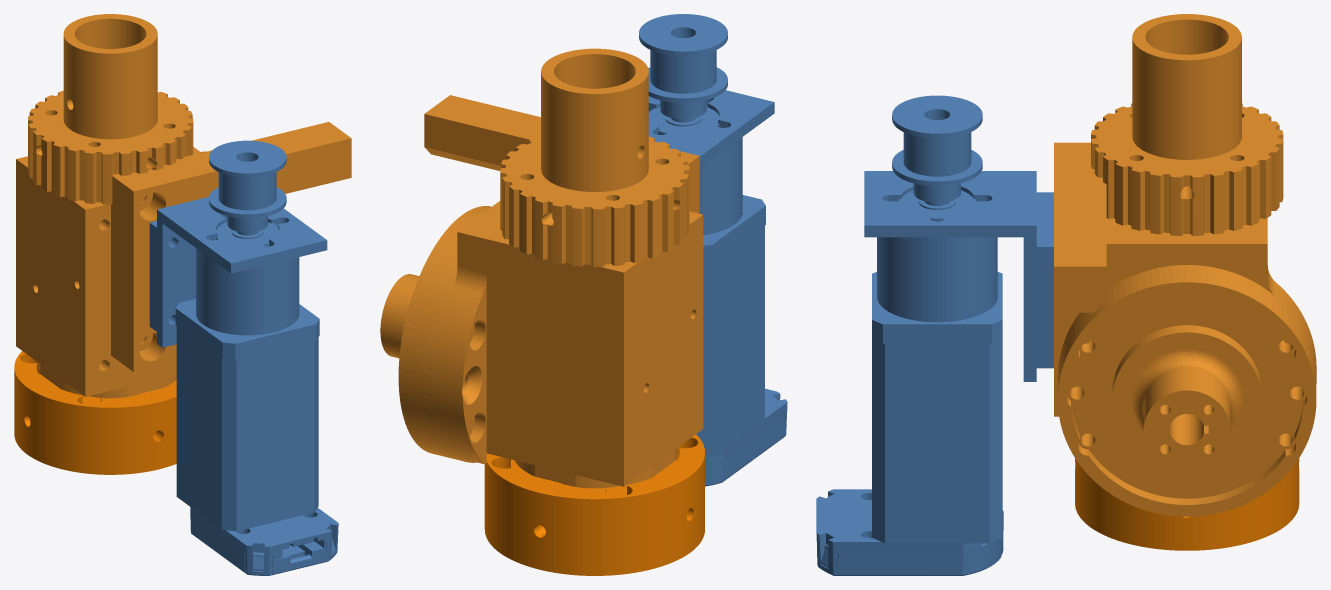
3 views of the same model, side by side, from view 1: azimuth 30°, elevation 25°; view 2: azimuth 150°, elevation 25°; view 3: azimuth 270°, elevation 25° (orthographic). The views are drawn at different scales.
Visible parts, largest first — view 1: Motor 11HS20-0674D-PG5 (×2), J4 Turret Housing, J4 motor mount - limit arm, J5 motor mount, J4 Main Shaft, J4 timing hub, J4 Motor Bracket, Encoder AMT-102V (×2), Pulley 10T, J4 motor spacer - 4mm; view 2: J4 Turret Housing, J5 motor mount, Motor 11HS20-0674D-PG5 (×2), J4 timing hub, J4 Main Shaft, J3 Spindle, Pulley 10T, J4 motor mount - limit arm, J4 Motor Bracket, Encoder AMT-102V (×2); view 3: J3 Spindle, Motor 11HS20-0674D-PG5 (×2), J4 timing hub, J4 Main Shaft, J4 Motor Bracket, J5 motor mount, J4 motor mount - limit arm, Encoder AMT-102V (×2), J4 Turret Housing, Pulley 10T, J4 motor spacer - 4mm.
Boxes of the visible parts, <box> form: Motor 11HS20-0674D-PG5 (×2): <box>175,221,319,531</box>; J4 Turret Housing: <box>16,147,201,397</box>; J4 motor mount - limit arm: <box>111,122,351,371</box>; J5 motor mount: <box>14,351,176,474</box>; J4 Main Shaft: <box>63,14,157,398</box>; J4 timing hub: <box>28,90,193,204</box>; J4 Motor Bracket: <box>157,197,327,347</box>; Encoder AMT-102V (×2): <box>190,507,338,575</box>; Pulley 10T: <box>209,140,286,232</box>; J4 motor spacer - 4mm: <box>149,220,195,331</box>; J4 Turret Housing: <box>433,201,703,487</box>; J5 motor mount: <box>484,434,704,575</box>; Motor 11HS20-0674D-PG5 (×2): <box>648,106,765,459</box>; J4 timing hub: <box>500,136,689,266</box>; J4 Main Shaft: <box>541,48,648,488</box>; J3 Spindle: <box>380,206,491,462</box>; Pulley 10T: <box>639,14,727,119</box>; J4 motor mount - limit arm: <box>424,95,699,213</box>; J4 Motor Bracket: <box>648,90,774,167</box>; Encoder AMT-102V (×2): <box>705,388,787,486</box>; J3 Spindle: <box>1058,265,1316,516</box>; Motor 11HS20-0674D-PG5 (×2): <box>872,190,1002,543</box>; J4 timing hub: <box>1091,103,1283,235</box>; J4 Main Shaft: <box>1132,14,1241,159</box>; J4 Motor Bracket: <box>864,171,1036,381</box>; J5 motor mount: <box>1075,458,1299,550</box>; J4 motor mount - limit arm: <box>1054,142,1106,416</box>; Encoder AMT-102V (×2): <box>816,489,1003,575</box>; J4 Turret Housing: <box>1057,218,1316,435</box>; Pulley 10T: <box>892,95,982,202</box>; J4 motor spacer - 4mm: <box>1036,192,1053,368</box>.
Bounding box in the file's own units: 0.0833 × 0.116 × 0.1272.
